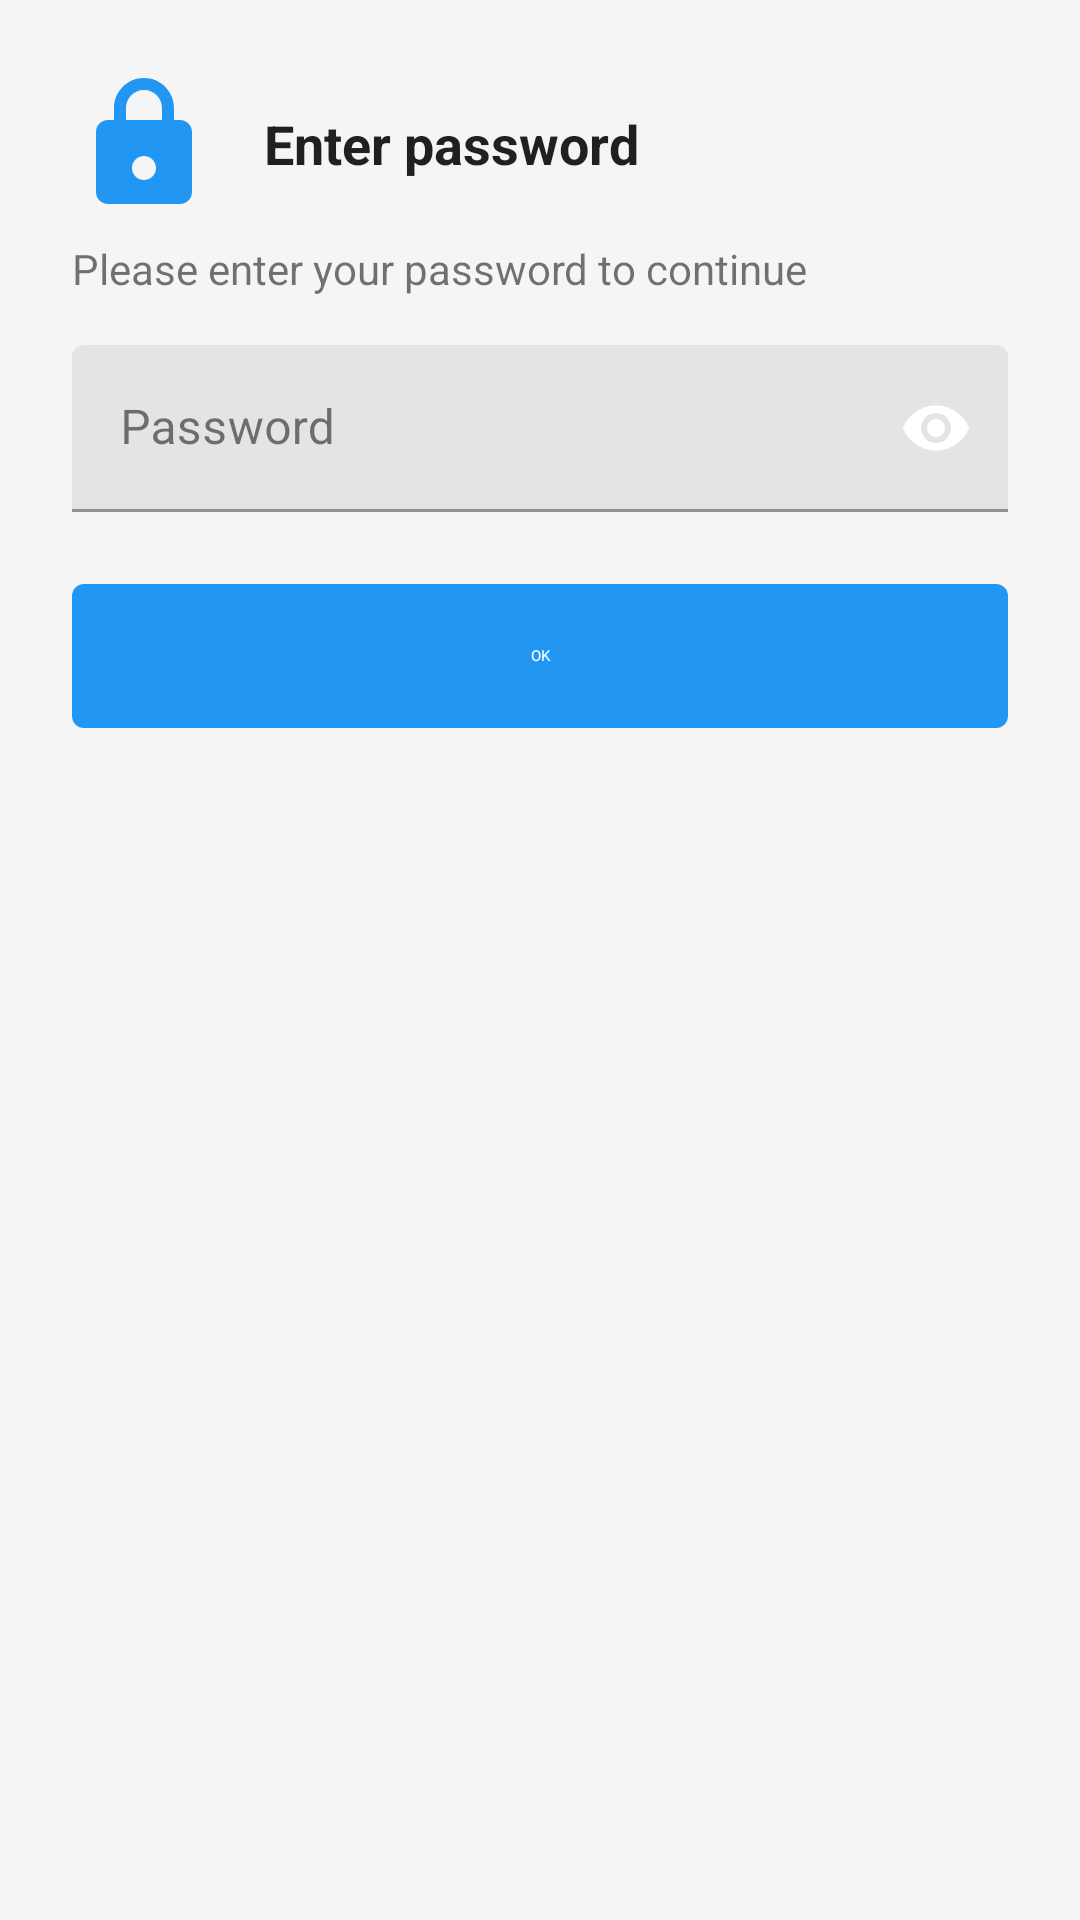

Screen size 1080*1920. Icon name, then its box in pixels as box=[x1, y1, x2, y2]:
lock: box=[96, 78, 192, 204]
